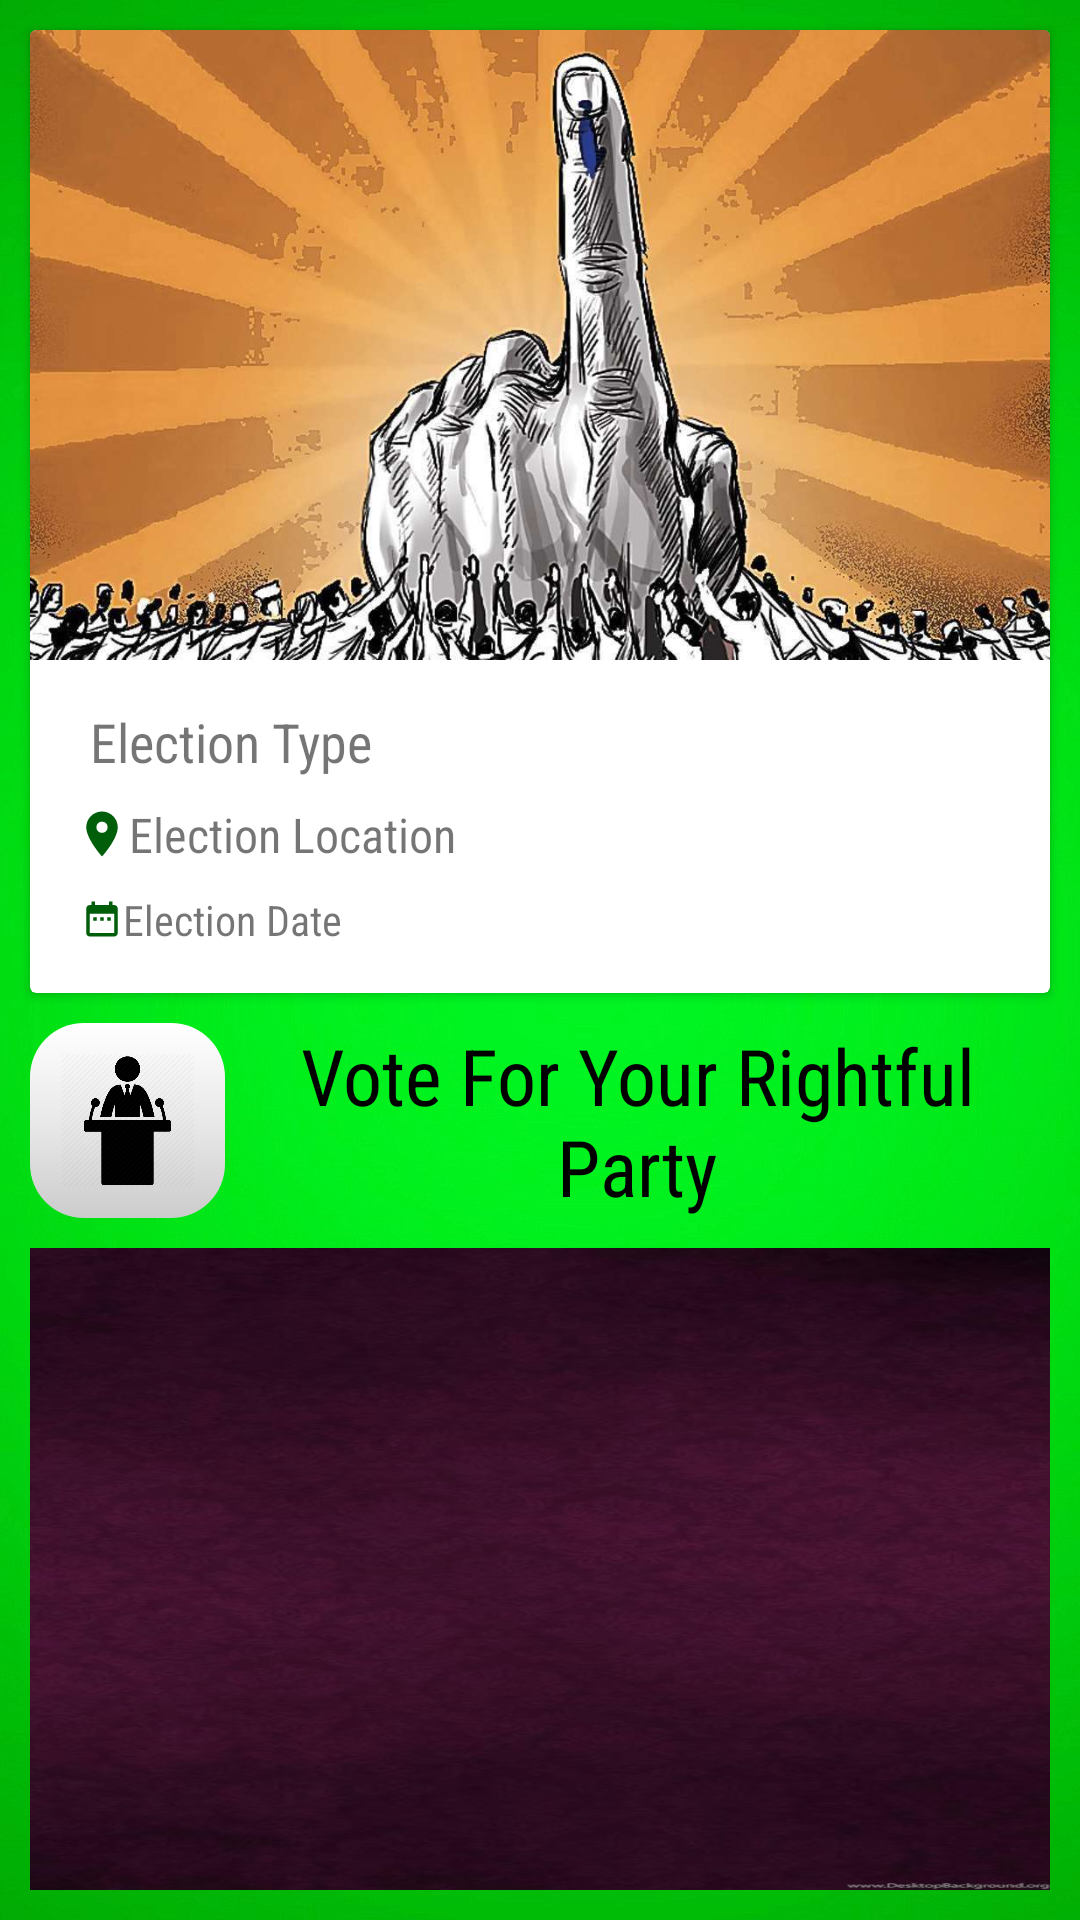

Named icons in this screenshot (1080px×1920px) and their bounding boxes, (x1, y1, x2, y2):
president: (30, 1023, 225, 1218)
